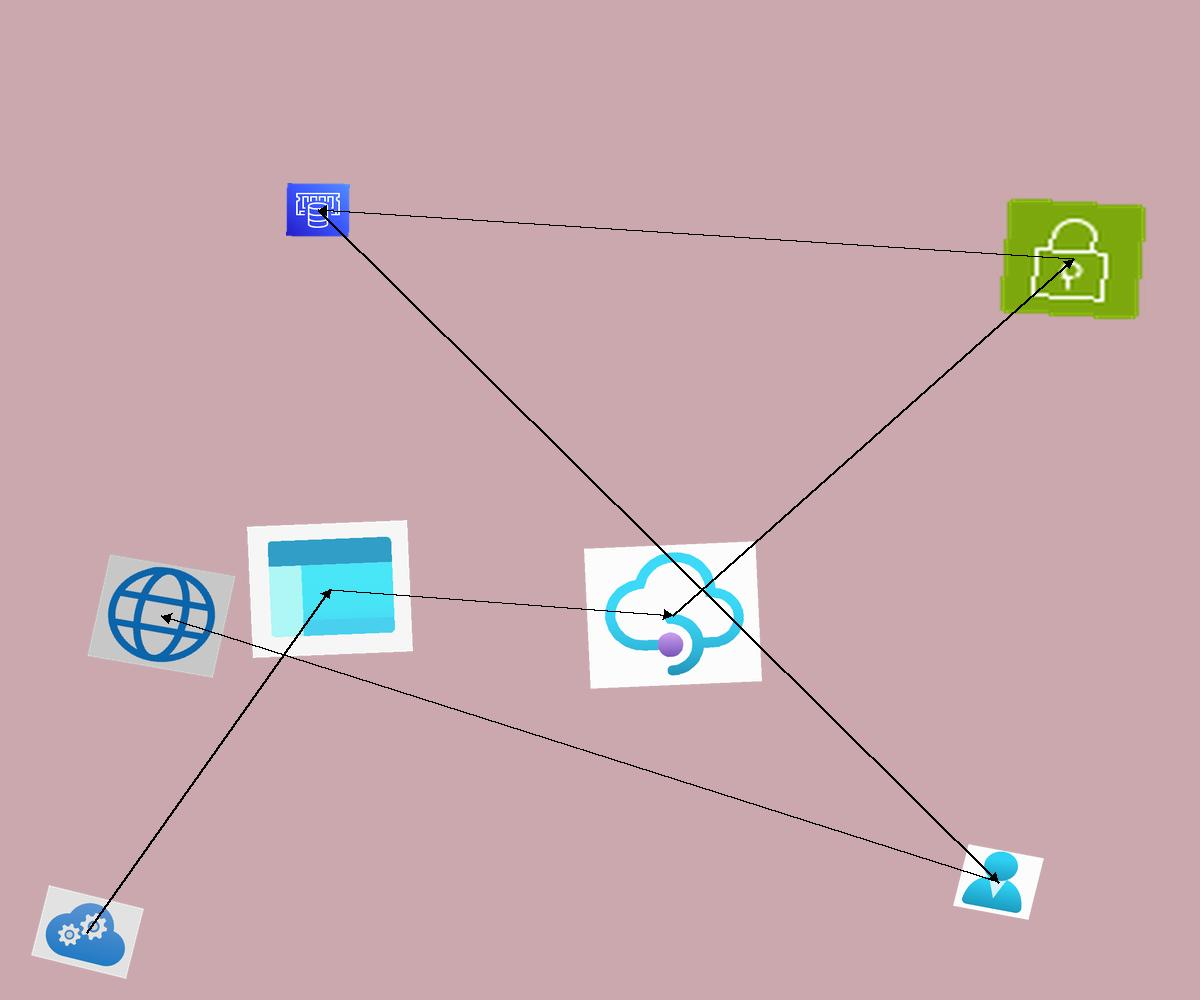AWS-ElastiCache: (286, 183, 350, 237)
AWS-Public-subnet: (997, 196, 1149, 322)
Azure_api_gateway: (584, 541, 762, 689)
Azure_cloud_services: (31, 885, 144, 979)
Azure_http: (87, 554, 236, 678)
Azure_management-portal: (247, 520, 413, 658)
Azure_users: (953, 844, 1044, 920)
